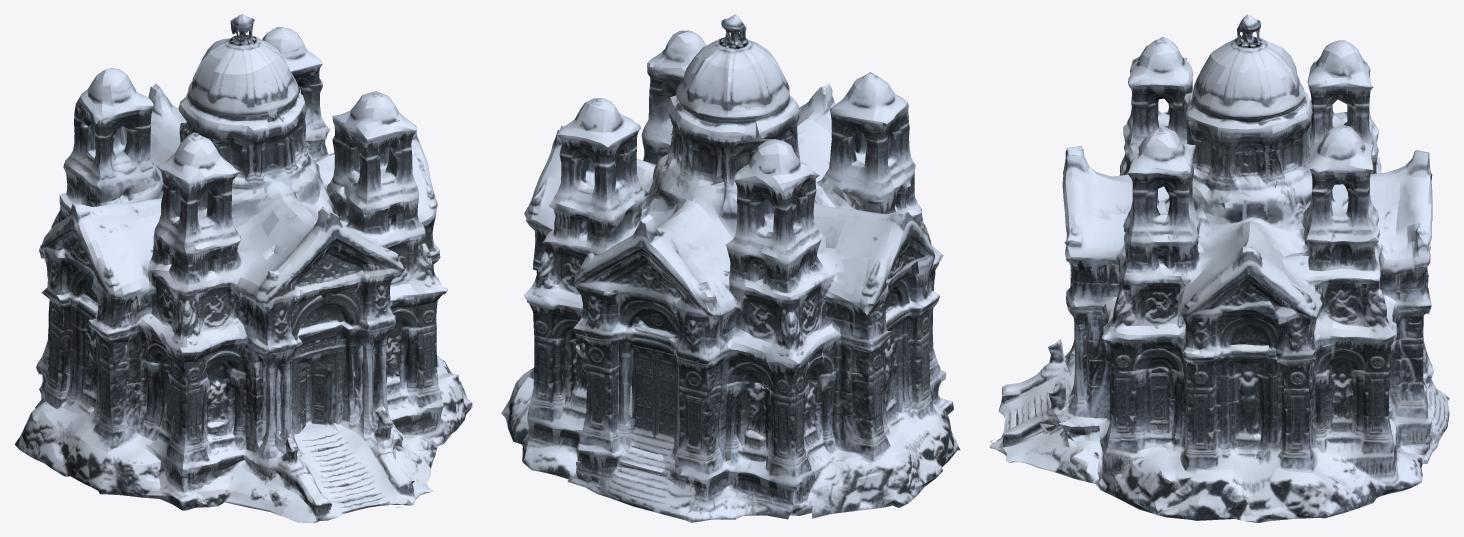
The model's file is temple.glb.
3 views of the same model, side by side, from view 1: azimuth 30°, elevation 25°; view 2: azimuth 150°, elevation 25°; view 3: azimuth 270°, elevation 25° (orthographic). The views are drawn at different scales.
Parts seen in each view (by area): view 1: Mesh0; view 2: Mesh0; view 3: Mesh0.
Part boxes in pixels (box(x1,y1,x2,y2)): Mesh0: box(14, 14, 472, 522); Mesh0: box(501, 14, 960, 522); Mesh0: box(989, 14, 1449, 522).
Size of the model in its own units: 1.81 by 1.81 by 1.83.
1 material, 1 textured.
